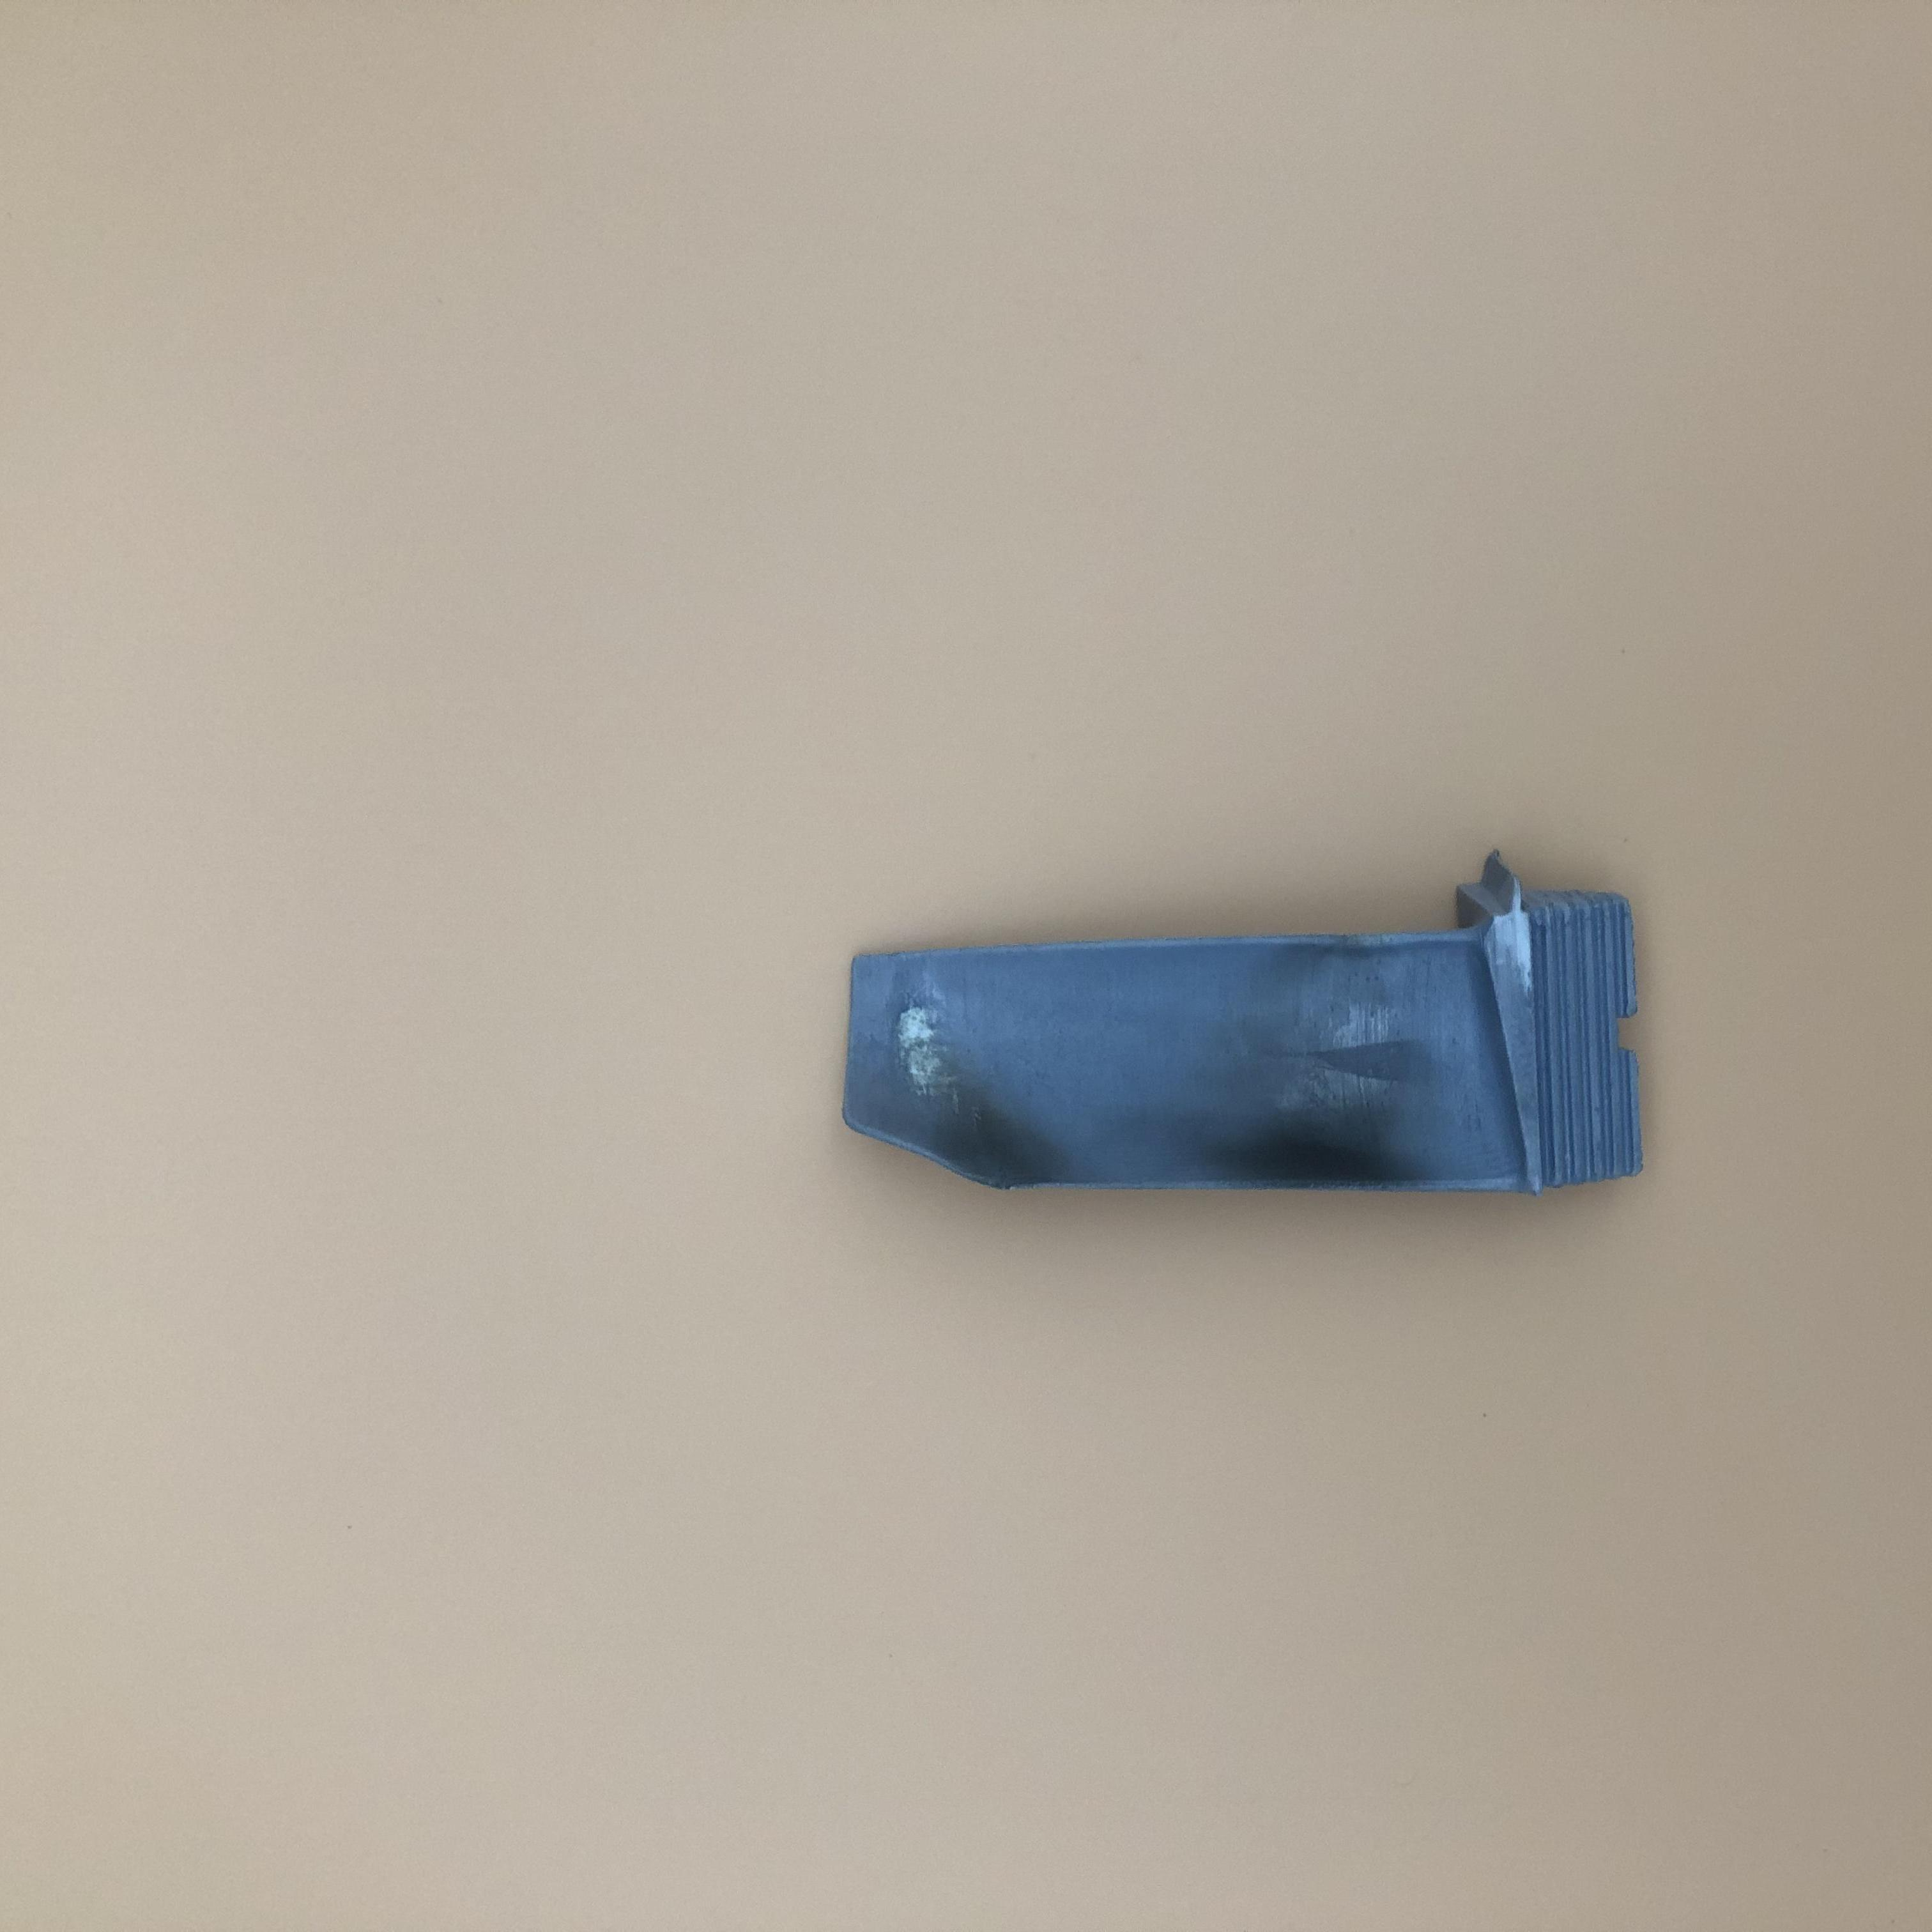ablation: (1240, 957, 1431, 1189), (886, 1012, 1076, 1191)
